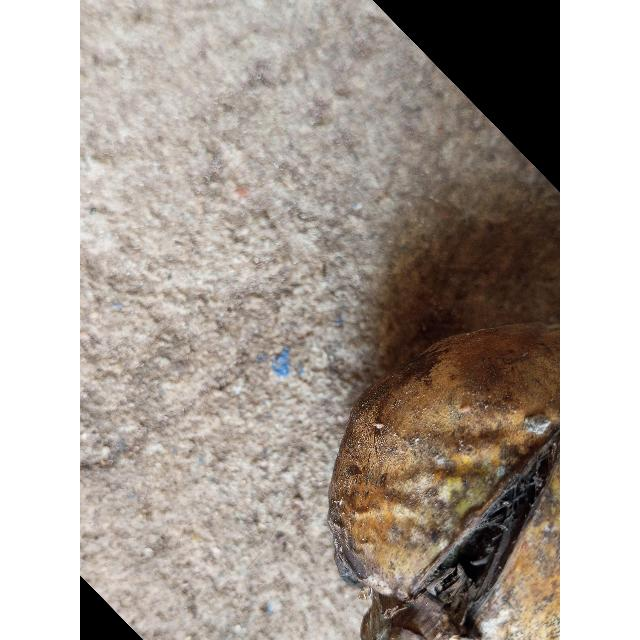damaged: (328, 324, 560, 640)
